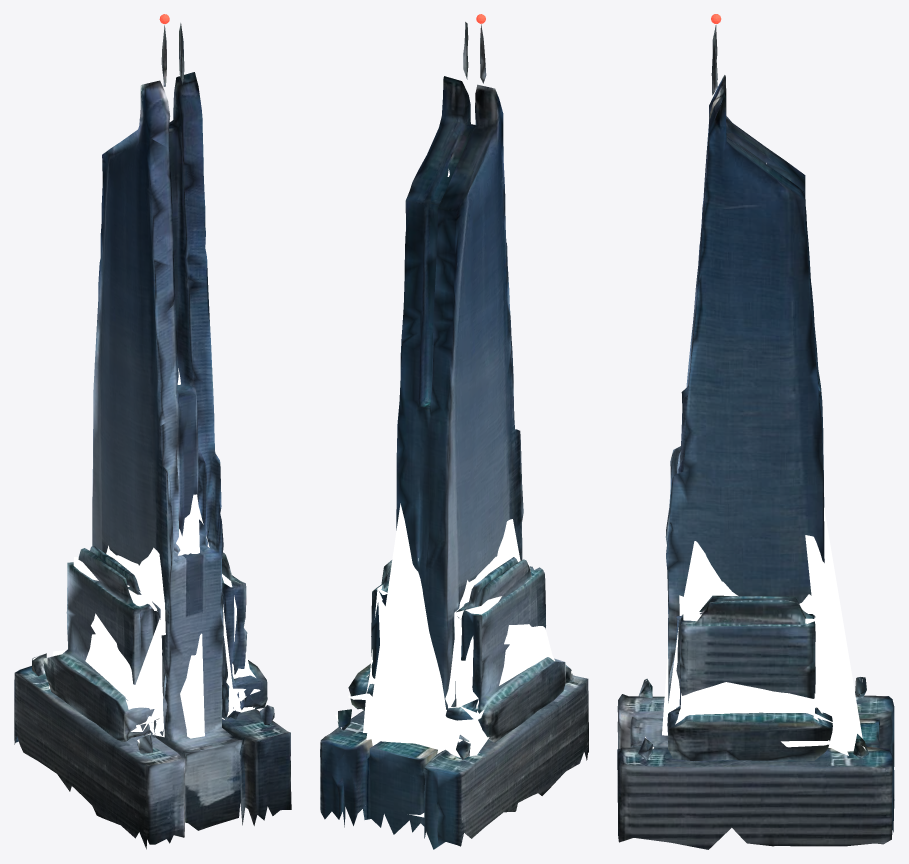
File: sky-violet.glb
The picture shows the model from 3 angles, left to right: view 1: azimuth 30°, elevation 25°; view 2: azimuth 150°, elevation 25°; view 3: azimuth 270°, elevation 25°; orthographic projection. The views are drawn at different scales.
Parts seen in each view (by area): view 1: Body, Accent; view 2: Body, Accent; view 3: Body, Accent.
Boxes of the visible parts, box(x1,y1,x2,y2) form: Body: box(14, 23, 291, 849); Accent: box(33, 368, 265, 743); Body: box(320, 22, 588, 849); Accent: box(335, 169, 572, 817); Body: box(617, 25, 894, 849); Accent: box(645, 163, 865, 755).
Size of the model in its own units: 37.41 by 192 by 60.17.
Materials: 3 (1 with a texture image).
